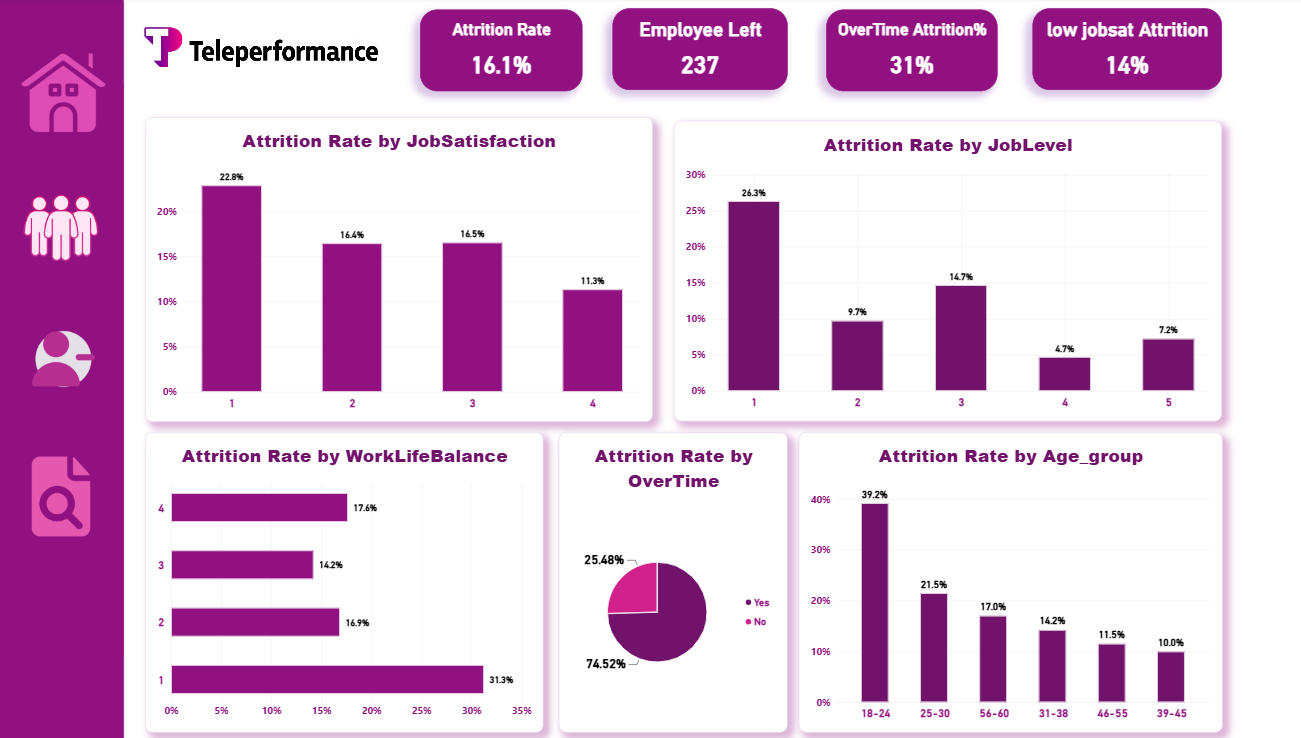

The dashboard page shown, as its layout file describes it:
{"tool":"powerbi","page":{"name":"Attrition Drivers","canvas":[1920,1080],"ordinal":2},"visuals":[{"type":"shape","box":[10.5,0,184.2,1080.7],"z":0},{"type":"image","box":[194.7,0,394.7,145.6],"z":1000},{"type":"advanceCardE03760C5AB684758B56AA29F9E6C257B","title":"Attrition Rate","fields":{"mainMeasure":["Measuers (2).Attrition Rate"]},"box":[621.7,18.3,235.2,118.5],"z":2000},{"type":"advanceCardE03760C5AB684758B56AA29F9E6C257B","title":"Employee Left","fields":{"mainMeasure":["Measuers (2).Employee Left"]},"box":[901.7,16.7,253.7,118.5],"z":3000},{"type":"advanceCardE03760C5AB684758B56AA29F9E6C257B","title":"low jobsat Attrition","fields":{"mainMeasure":["Measuers (2).low jobsat Attrition"]},"box":[1510,16.7,274.1,118.5],"z":4000},{"type":"columnChart","fields":{"Category":["HR-Attrition.JobSatisfaction"],"Y":["Measuers (2).Attrition Rate"]},"box":[225,173.3,735,441.7],"z":5000},{"type":"pieChart","fields":{"Category":["HR-Attrition.OverTime"],"Y":["Measuers (2).Attrition Rate"]},"box":[824.1,629.6,331.6,435.1],"z":6000},{"type":"barChart","fields":{"Category":["HR-Attrition.WorkLifeBalance"],"Y":["Measuers (2).Attrition Rate"]},"box":[224.6,629.8,577.2,435.1],"z":7000},{"type":"clusteredColumnChart","fields":{"Category":["JobLevel.JobLevel"],"Y":["Measuers (2).Attrition Rate"]},"box":[990,180,793.3,435],"z":8000},{"type":"lineStackedColumnComboChart","fields":{"Category":["HR-Attrition.Age_group"],"Y":["Measuers (2).Attrition Rate"]},"box":[1170,630,613.3,435],"z":9000},{"type":"advanceCardE03760C5AB684758B56AA29F9E6C257B","title":"OverTime Attrition%","fields":{"mainMeasure":["Measuers (2).OverTime Attrition Rate"]},"box":[1210,18.3,248.1,118.5],"z":10000},{"type":"image","box":[23.3,273.3,158.3,121.7],"z":11000},{"type":"image","box":[26.7,78.3,158.3,121.7],"z":12000},{"type":"image","box":[26.7,463.3,158.3,121.7],"z":13000},{"type":"image","box":[23.3,661.7,158.3,121.7],"z":14000}]}

Visuals, with their boxes in screenshot pixels (x1, y1, x2, y2), scaled from the page's 1920x1080 canvas onto the 1301x738 screenshot:
shape: pyautogui.locateOnScreen(7, 0, 132, 737)
image: pyautogui.locateOnScreen(132, 0, 399, 99)
"Attrition Rate" advanceCardE03760C5AB684758B56AA29F9E6C257B: pyautogui.locateOnScreen(421, 13, 581, 93)
"Employee Left" advanceCardE03760C5AB684758B56AA29F9E6C257B: pyautogui.locateOnScreen(611, 11, 783, 92)
"low jobsat Attrition" advanceCardE03760C5AB684758B56AA29F9E6C257B: pyautogui.locateOnScreen(1023, 11, 1209, 92)
columnChart - HR-Attrition.JobSatisfaction x Measuers (2).Attrition Rate: pyautogui.locateOnScreen(152, 118, 650, 420)
pieChart - HR-Attrition.OverTime x Measuers (2).Attrition Rate: pyautogui.locateOnScreen(558, 430, 783, 728)
barChart - HR-Attrition.WorkLifeBalance x Measuers (2).Attrition Rate: pyautogui.locateOnScreen(152, 430, 543, 728)
clusteredColumnChart - JobLevel.JobLevel x Measuers (2).Attrition Rate: pyautogui.locateOnScreen(671, 123, 1208, 420)
lineStackedColumnComboChart - HR-Attrition.Age_group x Measuers (2).Attrition Rate: pyautogui.locateOnScreen(793, 430, 1208, 728)
"OverTime Attrition%" advanceCardE03760C5AB684758B56AA29F9E6C257B: pyautogui.locateOnScreen(820, 13, 988, 93)
image: pyautogui.locateOnScreen(16, 187, 123, 270)
image: pyautogui.locateOnScreen(18, 54, 125, 137)
image: pyautogui.locateOnScreen(18, 317, 125, 400)
image: pyautogui.locateOnScreen(16, 452, 123, 535)
